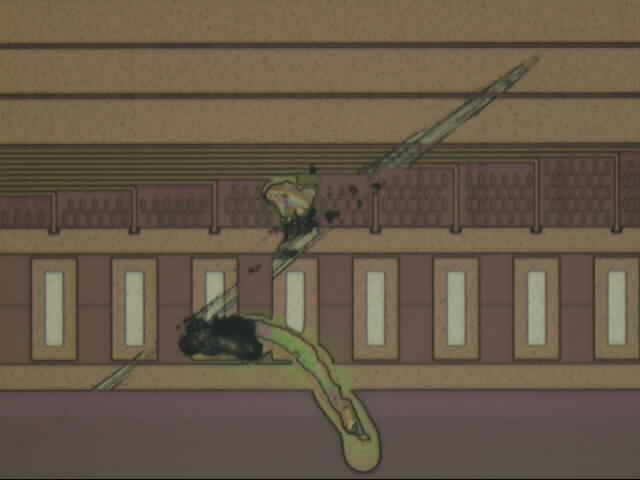SCRATCH: (87, 50, 549, 477)
